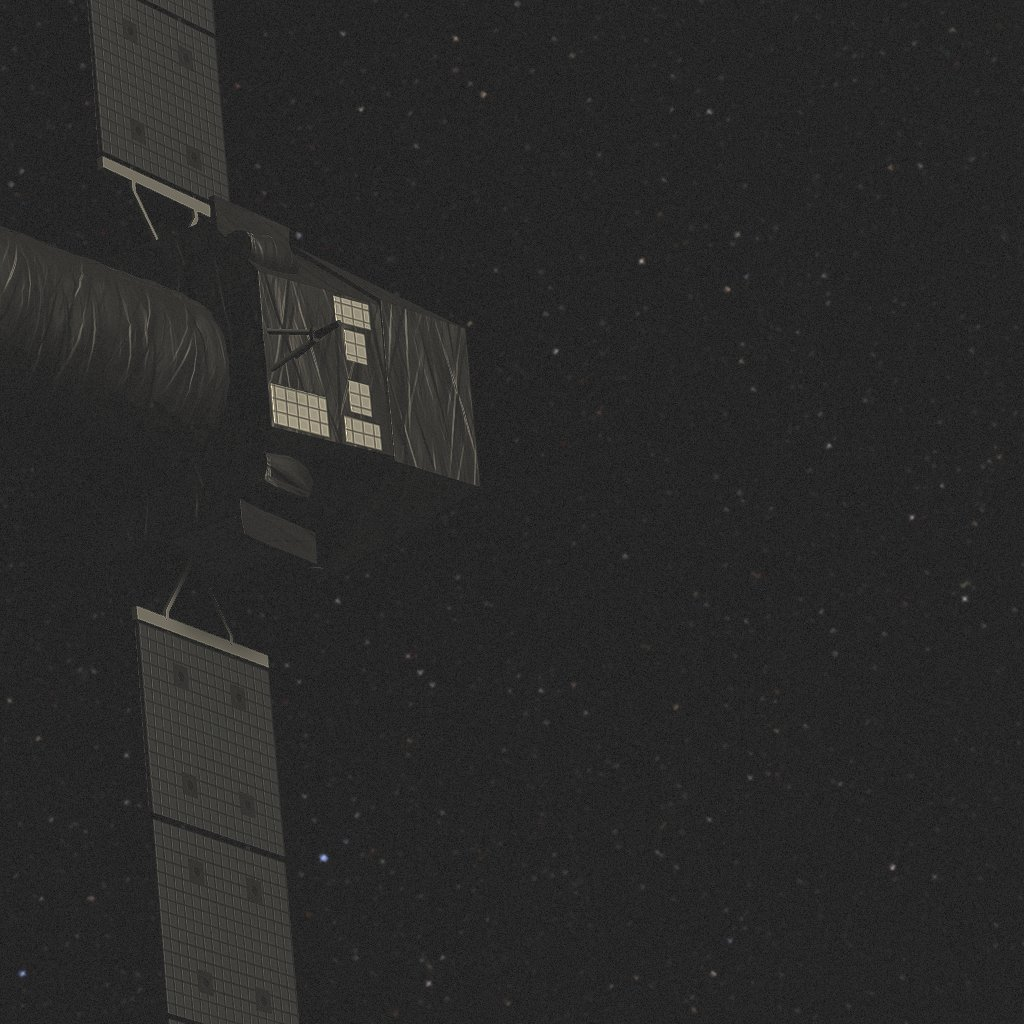xmm_newton: (0, 0, 481, 1024)
